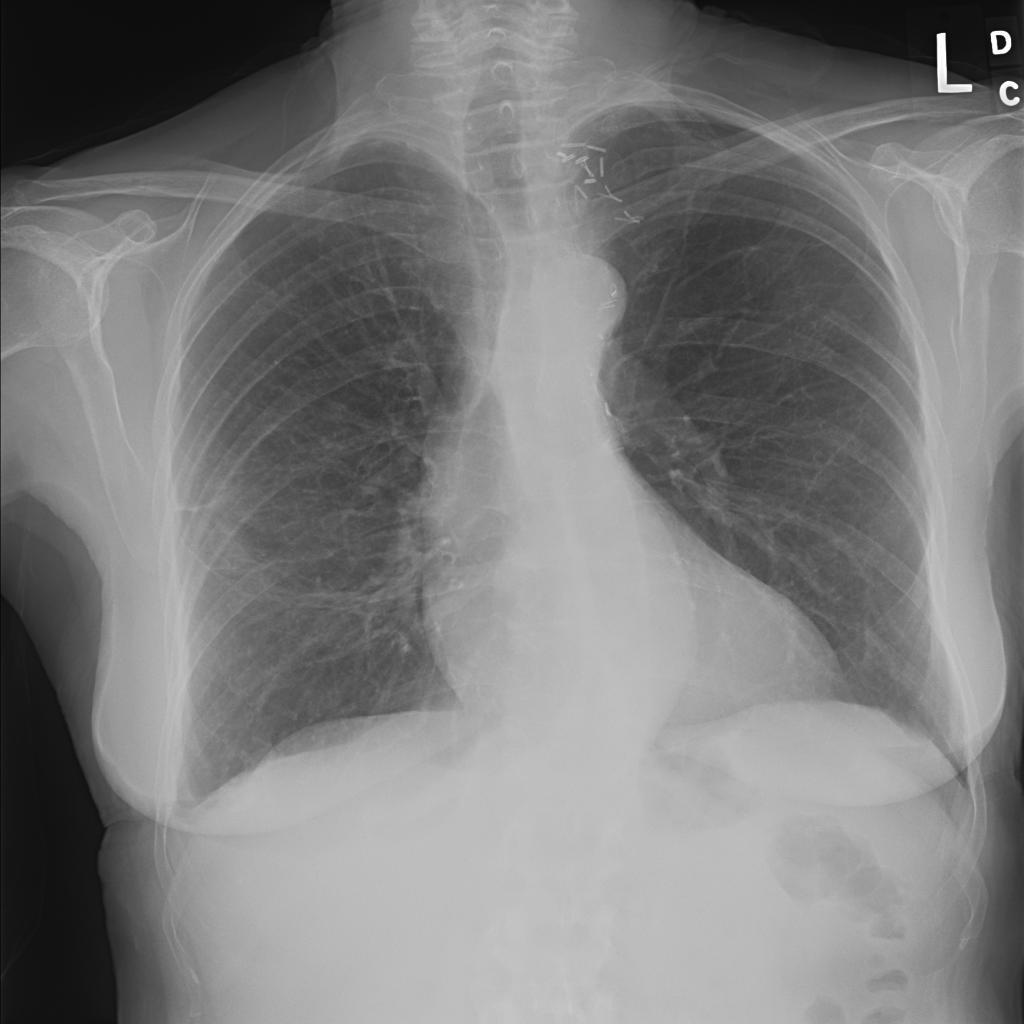Nodule: (177, 102, 212, 123), (179, 71, 212, 93)
